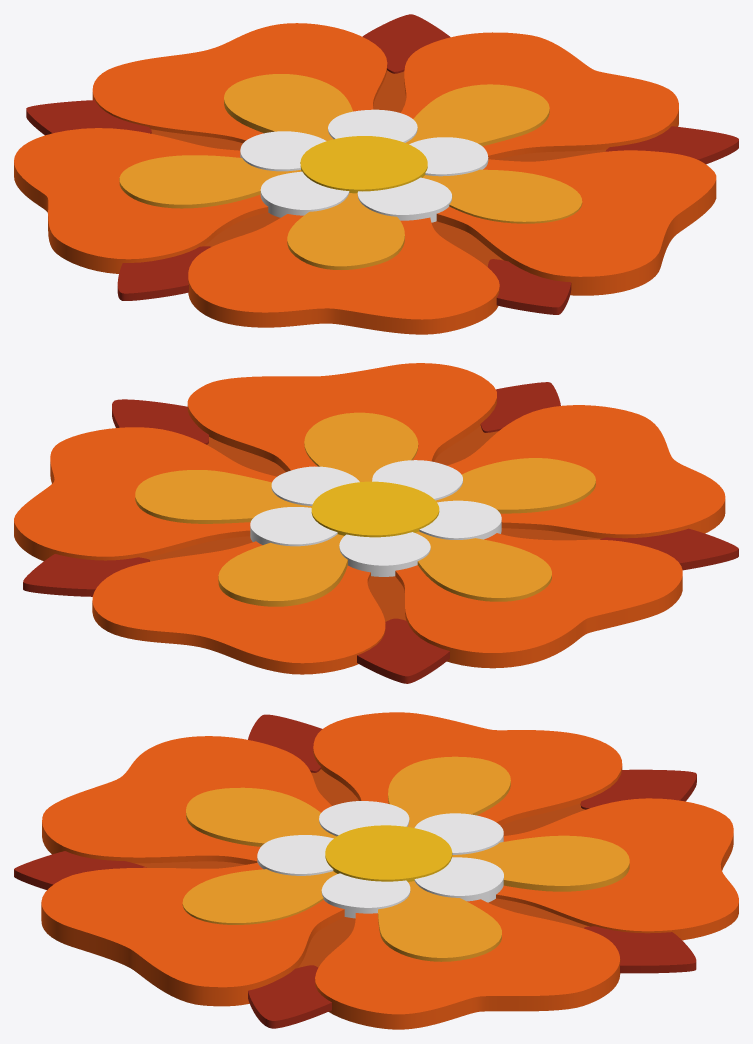
Rendered from emoji_u1f3f5.glb.
3 renders of one model, top to bottom at view 1: azimuth 30°, elevation 25°; view 2: azimuth 150°, elevation 25°; view 3: azimuth 270°, elevation 25°, orthographic.
Parts seen in each view (by area): view 1: emoji_u1f3f5; view 2: emoji_u1f3f5; view 3: emoji_u1f3f5.
Part boxes in pixels (bbox=[...]): emoji_u1f3f5: bbox=[14, 14, 738, 334]; emoji_u1f3f5: bbox=[14, 363, 738, 683]; emoji_u1f3f5: bbox=[14, 712, 738, 1029].
Bounding box in the file's own units: 0.0344 × 0.0016 × 0.0344.
